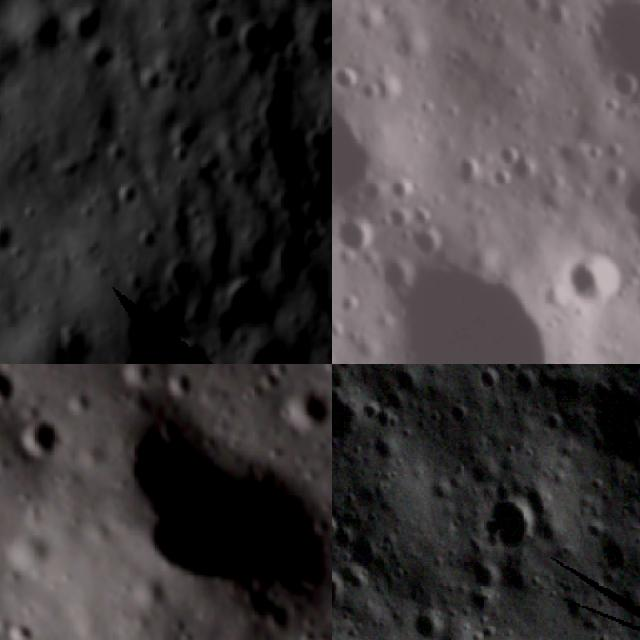crater: (70, 369, 332, 640), (332, 211, 614, 364), (562, 0, 640, 128), (552, 232, 636, 314), (265, 372, 332, 458), (6, 403, 81, 479), (480, 487, 548, 555), (207, 274, 272, 330), (123, 572, 174, 624), (13, 0, 62, 54), (248, 364, 305, 407), (0, 364, 35, 433), (160, 364, 211, 411), (110, 364, 170, 401), (235, 14, 278, 61), (235, 336, 306, 364), (617, 160, 640, 246), (66, 0, 114, 40), (157, 333, 217, 364), (505, 364, 548, 406), (272, 236, 310, 278), (61, 382, 100, 422), (387, 366, 426, 404), (256, 95, 294, 132), (302, 111, 332, 152), (51, 322, 85, 358), (0, 613, 45, 640), (87, 42, 123, 75), (112, 178, 150, 209), (443, 397, 478, 428), (348, 566, 376, 598), (168, 140, 194, 172), (206, 13, 235, 41), (105, 139, 134, 167), (134, 224, 160, 253), (0, 213, 16, 260), (139, 68, 167, 94), (472, 585, 503, 608), (276, 188, 297, 214), (332, 508, 347, 543), (22, 203, 44, 223), (0, 106, 10, 128)
